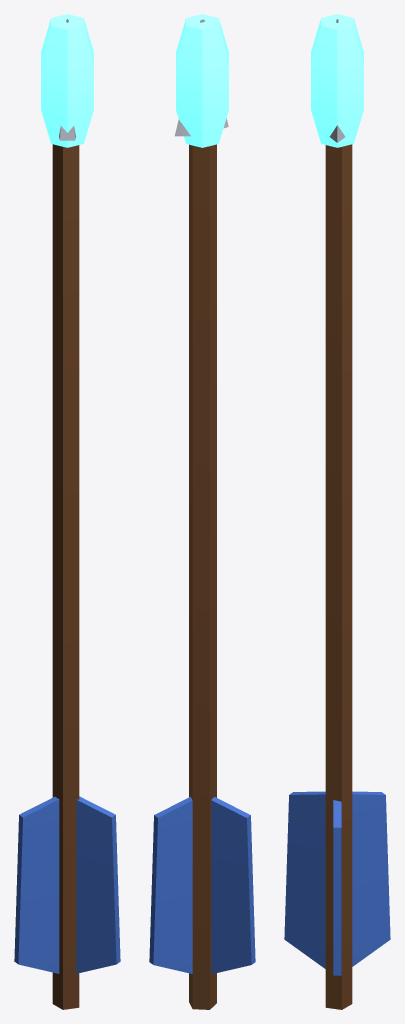
The model's file is Weapon_RoyalArrow.fbx.
3 renders of one model, left to right at view 1: azimuth 90°, elevation 25°; view 2: azimuth 210°, elevation 25°; view 3: azimuth 270°, elevation 25°, orthographic.
Parts seen in each view (by area): view 1: RoyalArrow; view 2: RoyalArrow; view 3: RoyalArrow.
Part boxes in pixels (x1,y1,x2,y2): RoyalArrow: (14, 14, 120, 1009); RoyalArrow: (149, 14, 255, 1009); RoyalArrow: (284, 14, 390, 1009).
Bounding box in the file's own units: 0.0343 × 0.405 × 0.0396.
